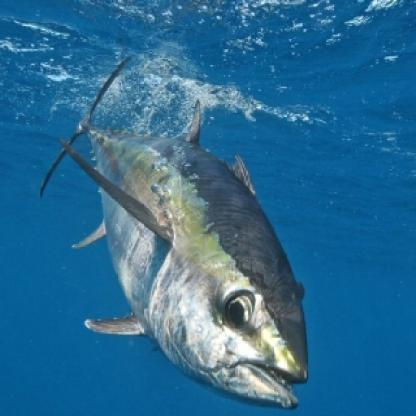tuna: (28, 44, 318, 413)
